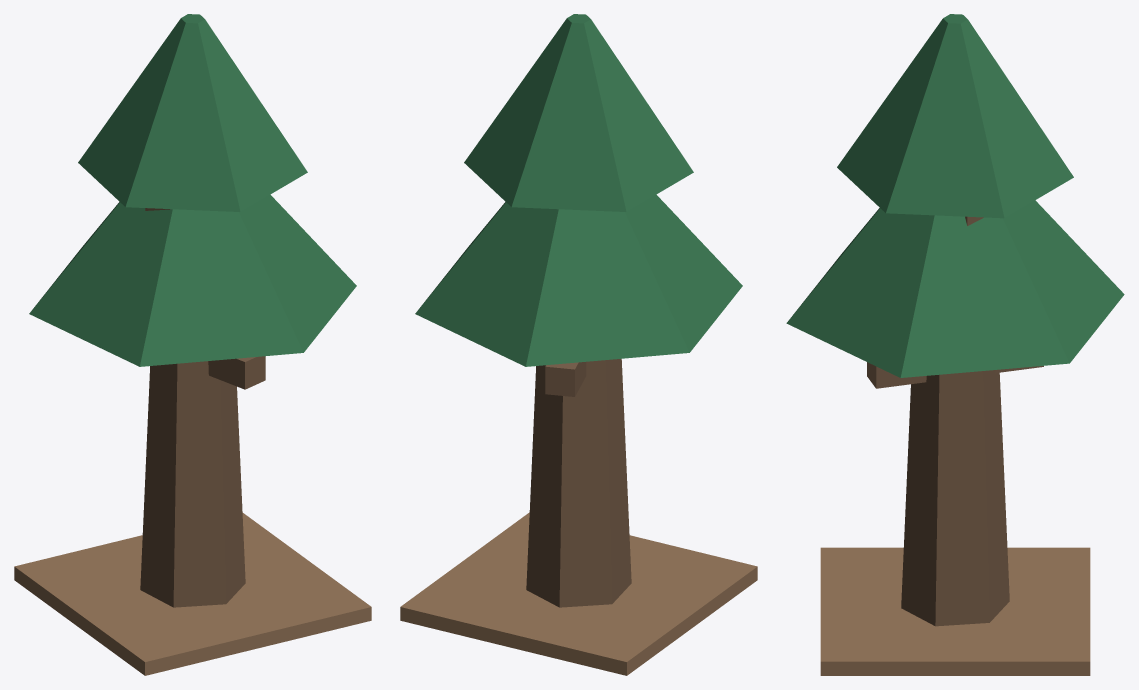
The model's file is df_dead_pine_b.glb.
The picture shows the model from 3 angles, left to right: view 1: azimuth 30°, elevation 25°; view 2: azimuth 150°, elevation 25°; view 3: azimuth 270°, elevation 25°; orthographic projection. The views are drawn at different scales.
Visible parts, largest first — view 1: dark_needles_low, dark_needles_top, footprint_shadow, dead_pine_trunk, jagged_branch_0; view 2: dark_needles_low, dark_needles_top, footprint_shadow, dead_pine_trunk, jagged_branch_0; view 3: dark_needles_low, dark_needles_top, footprint_shadow, dead_pine_trunk, jagged_branch_0.
Boxes of the visible parts, x1=… form: dark_needles_low: x1=29, y1=194, x2=356, y2=366; dark_needles_top: x1=78, y1=14, x2=307, y2=211; footprint_shadow: x1=14, y1=513, x2=371, y2=675; dead_pine_trunk: x1=140, y1=361, x2=245, y2=607; jagged_branch_0: x1=208, y1=356, x2=265, y2=389; dark_needles_low: x1=415, y1=194, x2=742, y2=366; dark_needles_top: x1=464, y1=14, x2=693, y2=211; footprint_shadow: x1=400, y1=512, x2=757, y2=675; dead_pine_trunk: x1=526, y1=358, x2=631, y2=607; jagged_branch_0: x1=545, y1=362, x2=586, y2=396; dark_needles_low: x1=786, y1=200, x2=1124, y2=377; dark_needles_top: x1=837, y1=14, x2=1073, y2=218; footprint_shadow: x1=820, y1=547, x2=1090, y2=675; dead_pine_trunk: x1=901, y1=370, x2=1009, y2=626; jagged_branch_0: x1=867, y1=362, x2=1043, y2=388.
Bounding box in the file's own units: 1.04 × 2.18 × 1.08.
